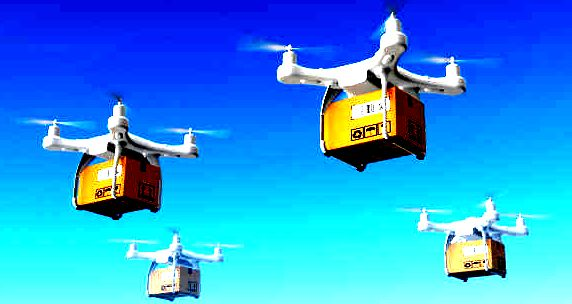Drone: (239, 6, 500, 102), (16, 87, 232, 161), (392, 184, 544, 243), (114, 222, 238, 269)
